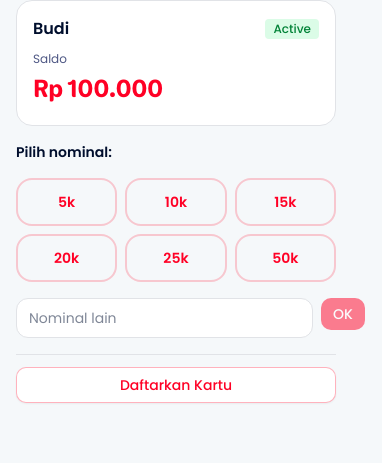
Test: KioskSection - ready phase (tap step) › transitions to register step when Daftarkan Kartu clicked
The width and height of the screenshot is (382, 463).
Click the button "Daftarkan Kartu": (176, 385) [16,367,336,403]
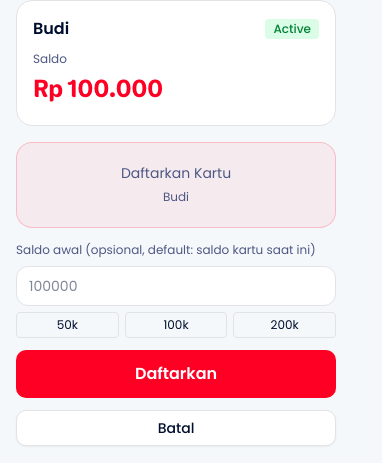
Check: the button "Daftarkan" is shown, box [16,350,336,398]
